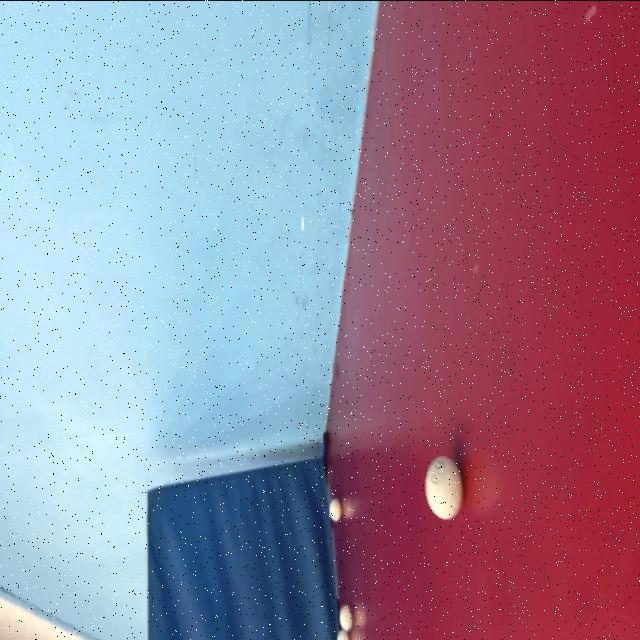ping-pong-ball: (418, 439, 471, 531), (330, 598, 358, 640), (322, 496, 349, 529)
